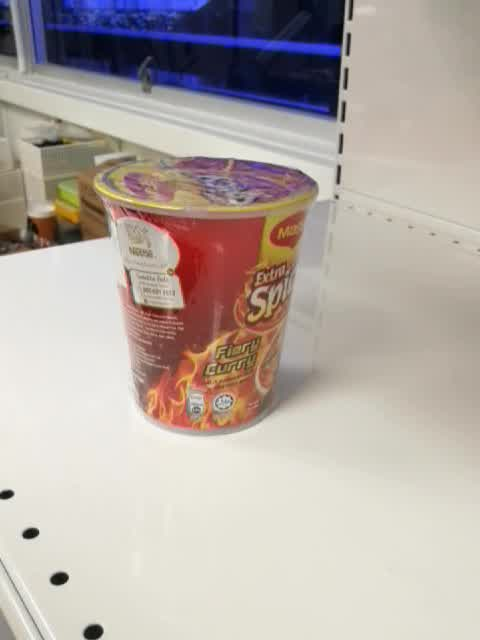maggi: (92, 156, 319, 436)
